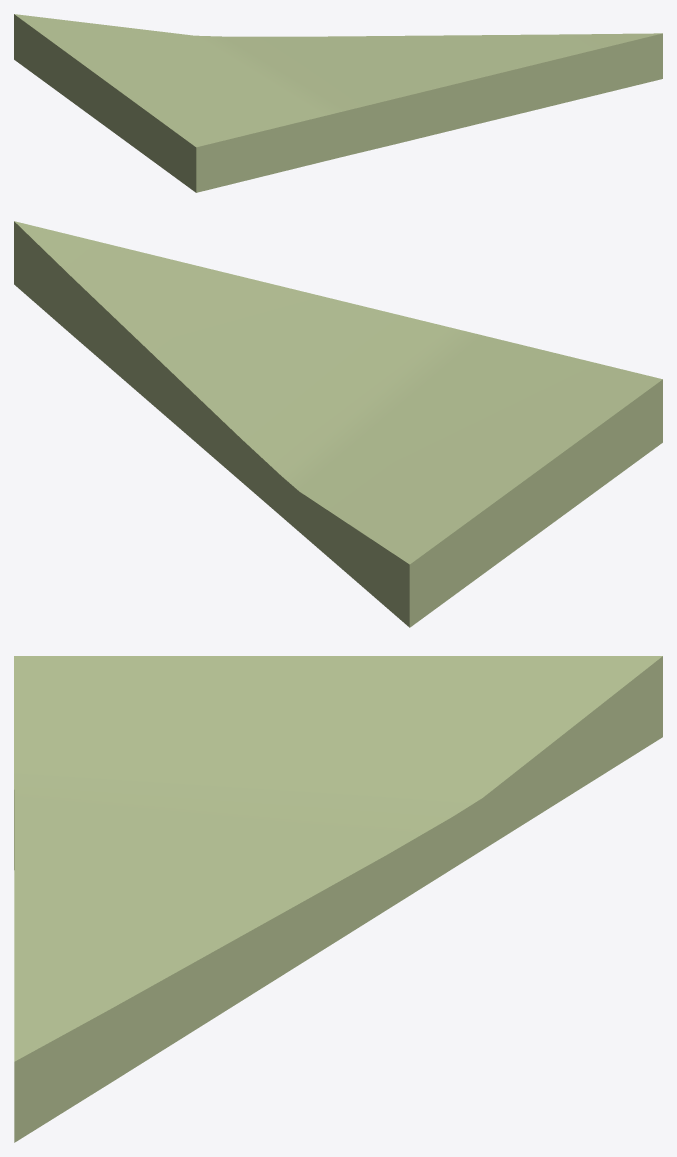
Rendered from ground_3.gltf.
3 views of the same model, one above another, from view 1: azimuth 30°, elevation 25°; view 2: azimuth 150°, elevation 25°; view 3: azimuth 270°, elevation 25° (orthographic). The views are drawn at different scales.
Visible parts, largest first — view 1: o_ground_3; view 2: o_ground_3; view 3: o_ground_3.
Boxes of the visible parts, x1,y1,x2,y2 form: o_ground_3: [14, 14, 662, 192]; o_ground_3: [14, 221, 662, 627]; o_ground_3: [14, 656, 662, 1142].
Bounding box in the file's own units: 26.28 × 2.45 × 17.77.
